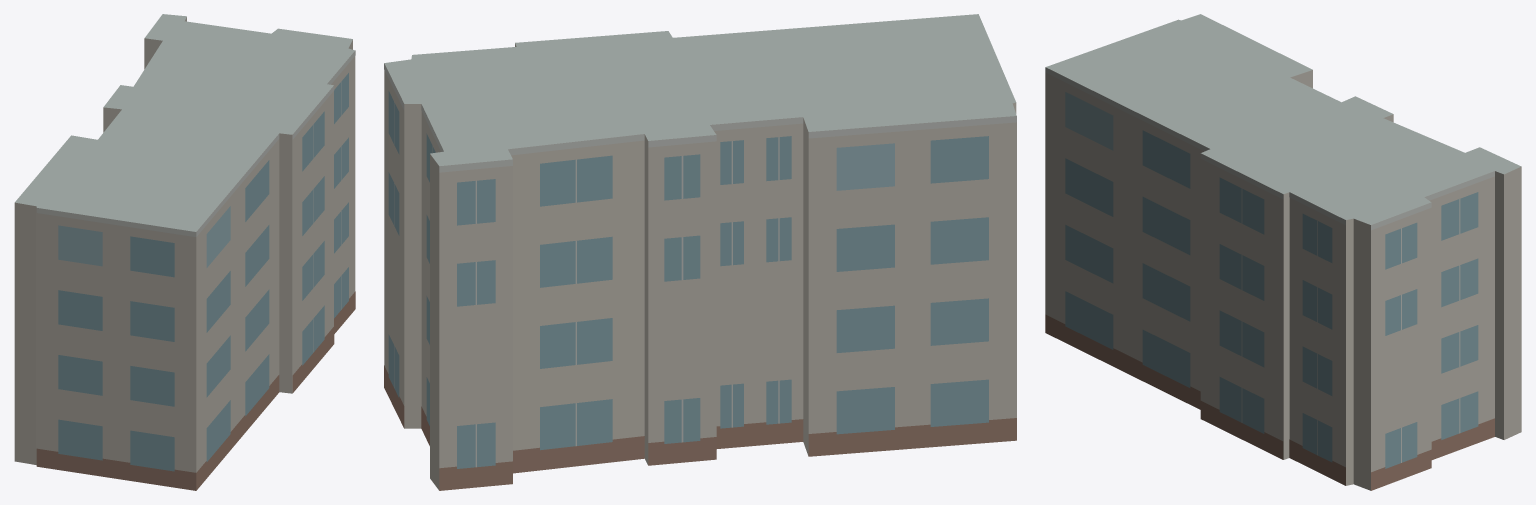
Rendered from survey-upis-32638727.glb.
The picture shows the model from 3 angles, left to right: view 1: azimuth 30°, elevation 25°; view 2: azimuth 150°, elevation 25°; view 3: azimuth 270°, elevation 25°; orthographic projection. The views are drawn at different scales.
Visible parts, largest first — view 1: survey-upis-32638727.tmp; view 2: survey-upis-32638727.tmp; view 3: survey-upis-32638727.tmp.
Boxes of the visible parts, x1,y1,x2,y2 form: survey-upis-32638727.tmp: (14, 14, 355, 490); survey-upis-32638727.tmp: (384, 14, 1016, 490); survey-upis-32638727.tmp: (1045, 14, 1521, 490).
Size of the model in its own units: 20.79 by 12.2 by 19.81.
